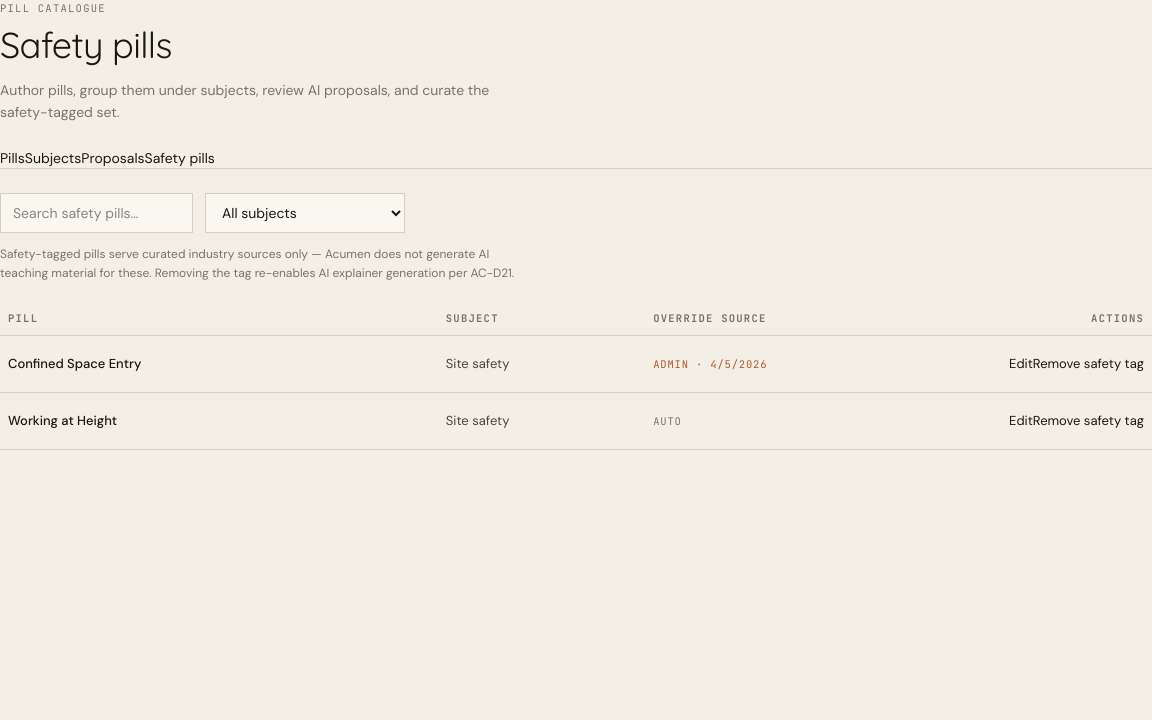
safety tab — edit flow › opens PillModal in edit mode when admin clicks Edit
Expected: the text "Confined Space Entry" is shown, [0, 335, 438, 392]
Click the button "Edit" in the row of "Confined Space Entry" at (1021, 364), box [1009, 346, 1033, 382]
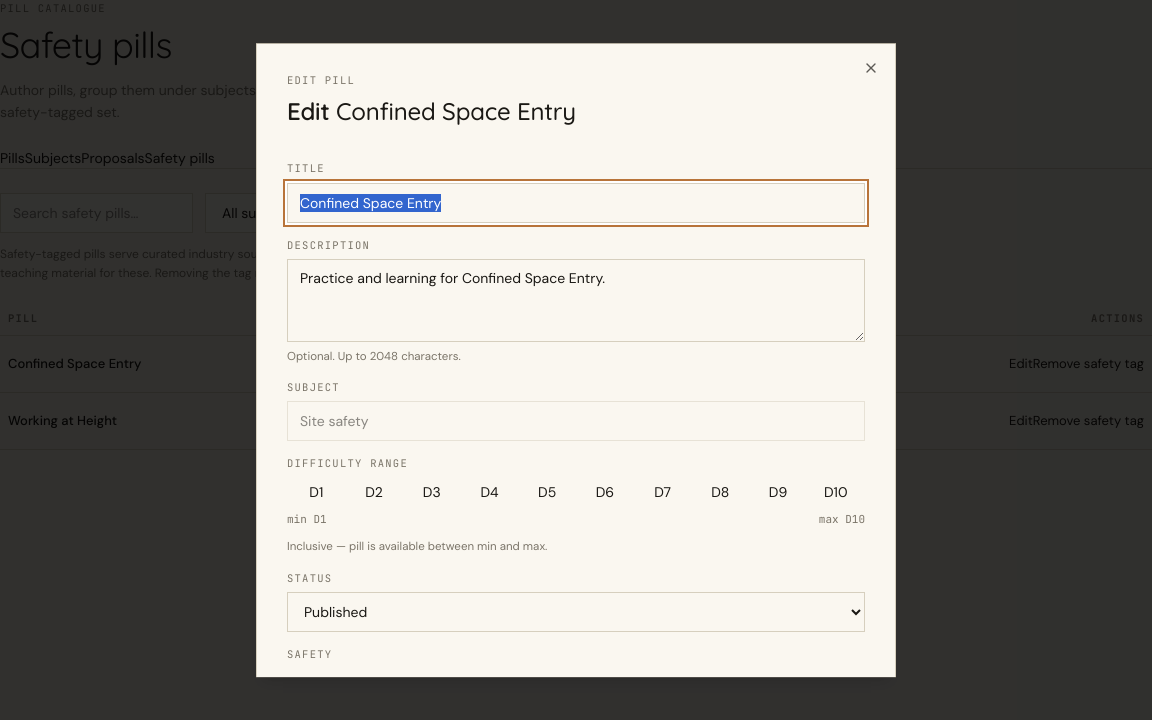
Expected: the form with test id "pill-modal-form" is shown, [287, 160, 865, 677]
Expected: the field with test id "pill-modal-name" holds "Confined Space Entry", [287, 183, 865, 223]
